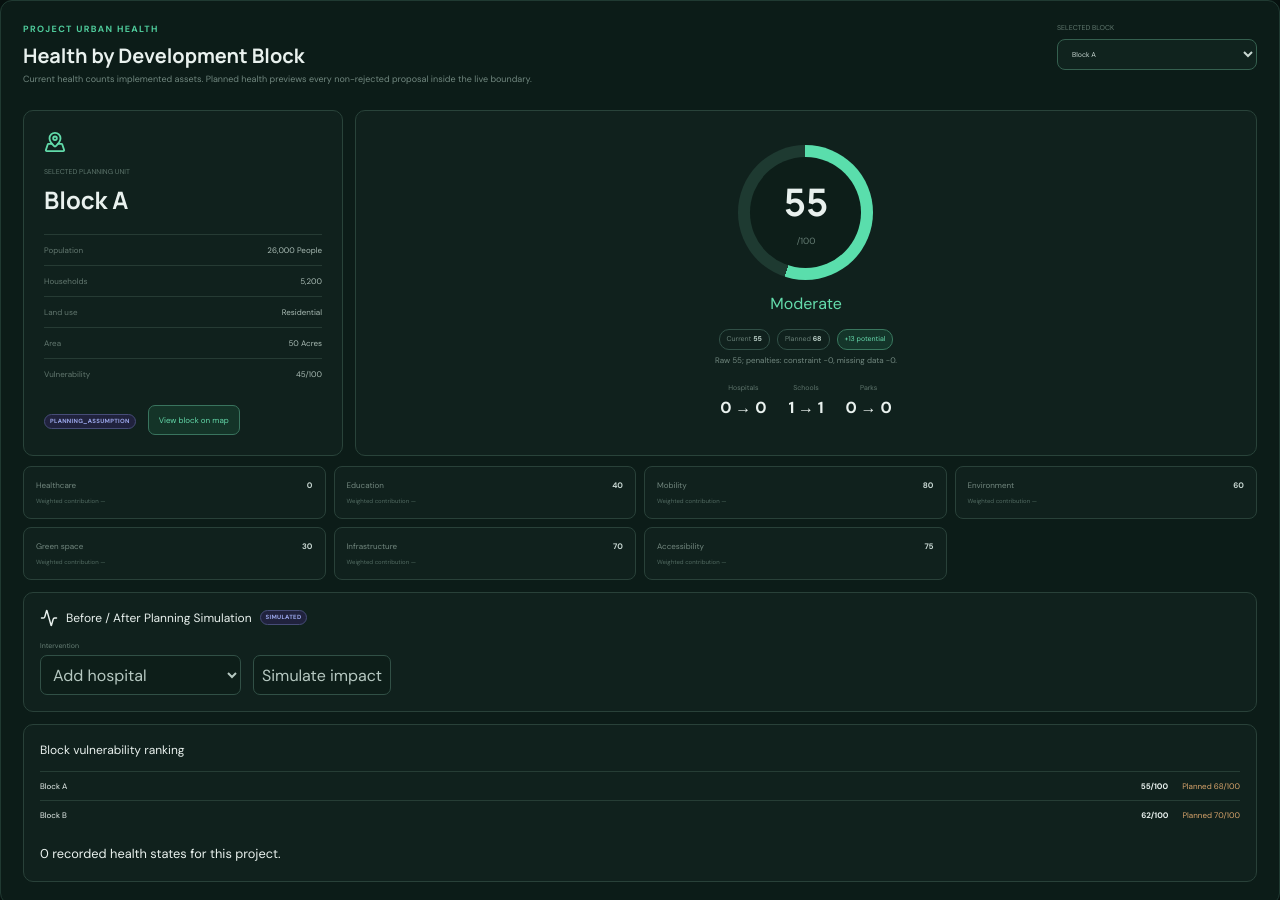
shows deterministic population and health by project block
expect the text "26,000 people" is shown: met, box [267,244,322,256]
Select "Block B" in the dropdown named "Select project block" at (1157, 54), box [1057,38,1257,70]
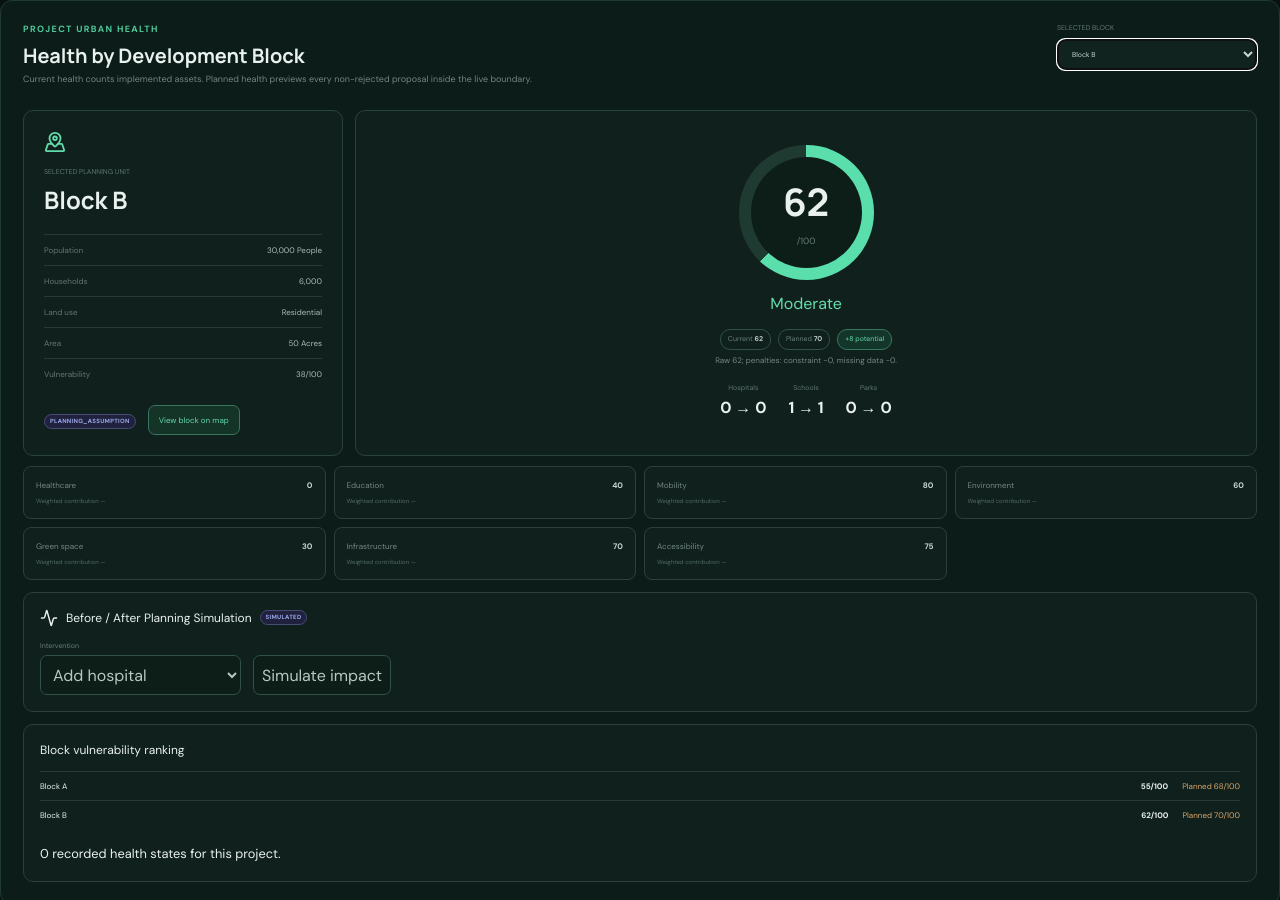
expect the text "30,000 people" is shown: met, box [267,244,322,256]
expect the 1st text "62" is shown: met, box [783,175,829,227]
expect the text "Planned" shows "70": met, box [814,334,822,343]
